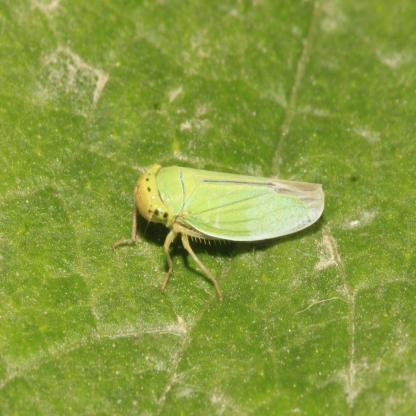Green-Leafhopper: (116, 160, 327, 294)
